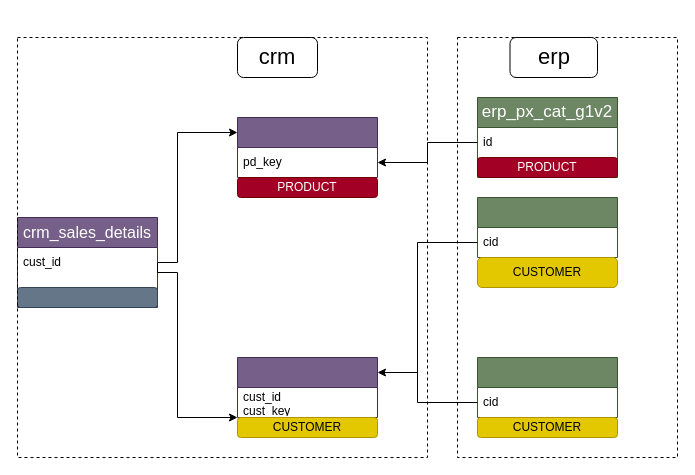
Some shapes in this 695 by 475 pixel diagram are drawn without their labels. The box of each missing label's shape, as (x1, y1, x2, y2) in pixels:
crm_cust_info: (236, 356, 378, 418)
crm_prd_info: (236, 116, 378, 178)
erp_cust_az12: (476, 196, 618, 258)
erp_loc_a101: (476, 356, 618, 418)
SALES: (16, 286, 158, 308)
